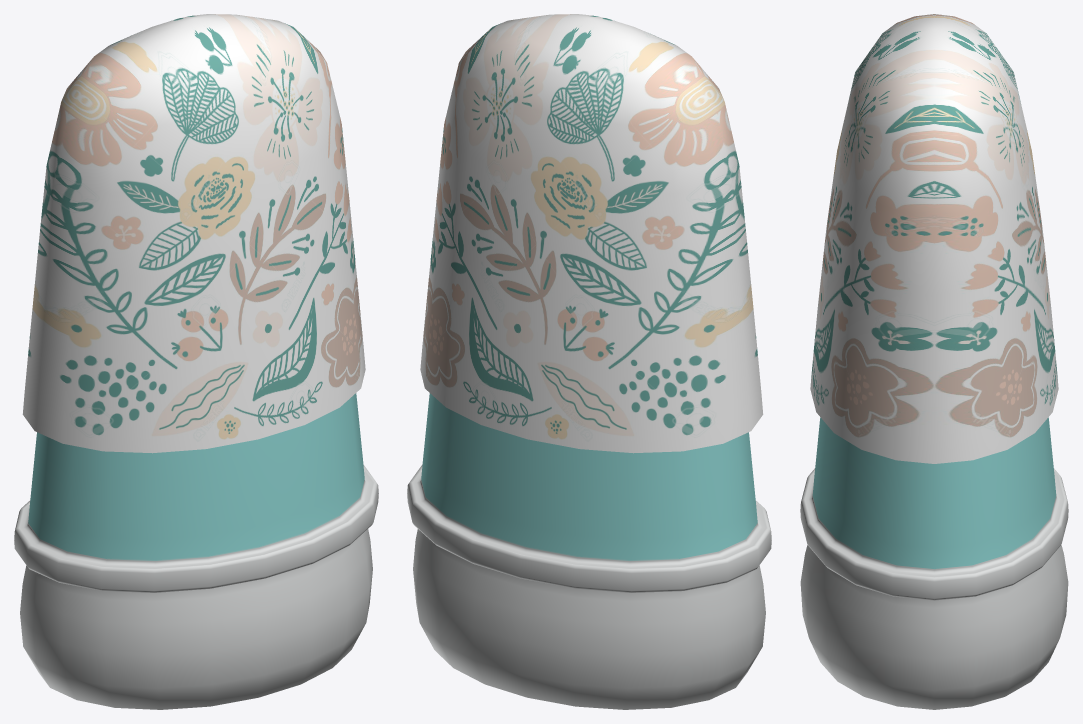
The model's file is airfreshener.fbx.
3 views of the same model, side by side, from view 1: azimuth 30°, elevation 25°; view 2: azimuth 150°, elevation 25°; view 3: azimuth 270°, elevation 25° (orthographic). The views are drawn at different scales.
Visible parts, largest first — view 1: top1, innards; view 2: top1, innards; view 3: top1, innards.
Boxes of the visible parts, left/top/right/bottom form: top1: left=22, top=14, right=365, bottom=453; innards: left=14, top=393, right=378, bottom=709; top1: left=420, top=14, right=763, bottom=453; innards: left=407, top=393, right=771, bottom=709; top1: left=810, top=14, right=1058, bottom=463; innards: left=800, top=417, right=1068, bottom=709.
Size of the model in its own units: 1.95 by 3.53 by 1.39.
2 materials, 2 textured.
